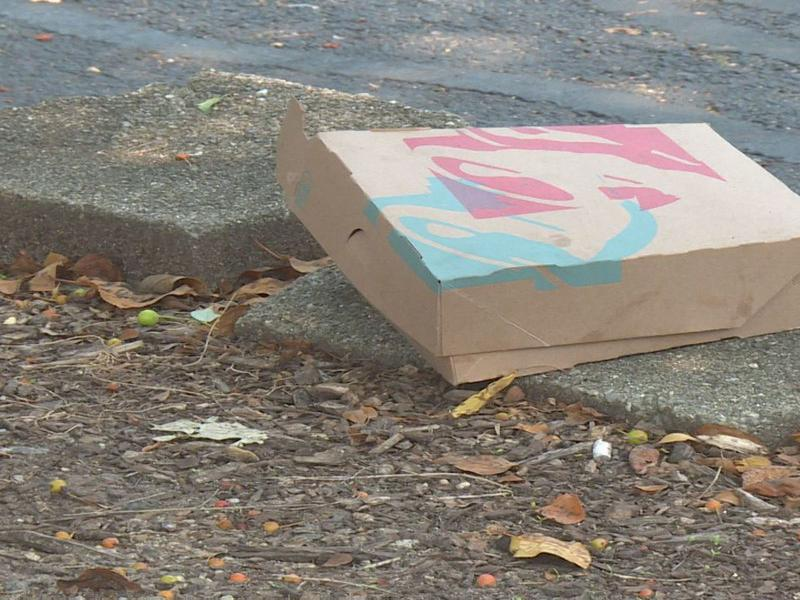cardboard: (259, 110, 800, 386)
leaf: (142, 410, 272, 452), (497, 524, 598, 572), (79, 275, 176, 313), (447, 373, 525, 420), (440, 443, 538, 480), (530, 490, 591, 530)
